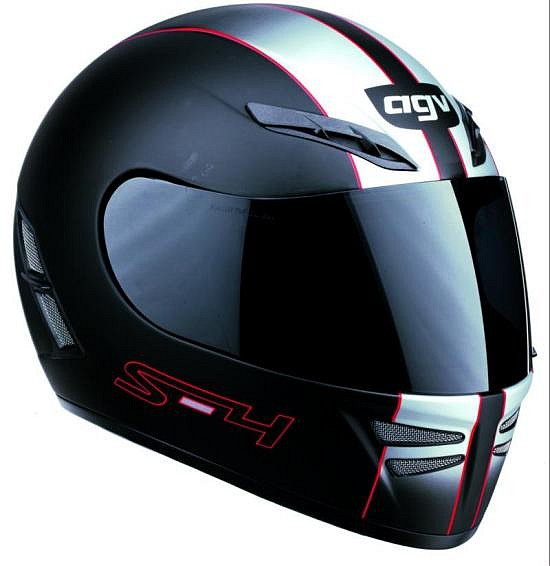helmet: (14, 15, 541, 527)
